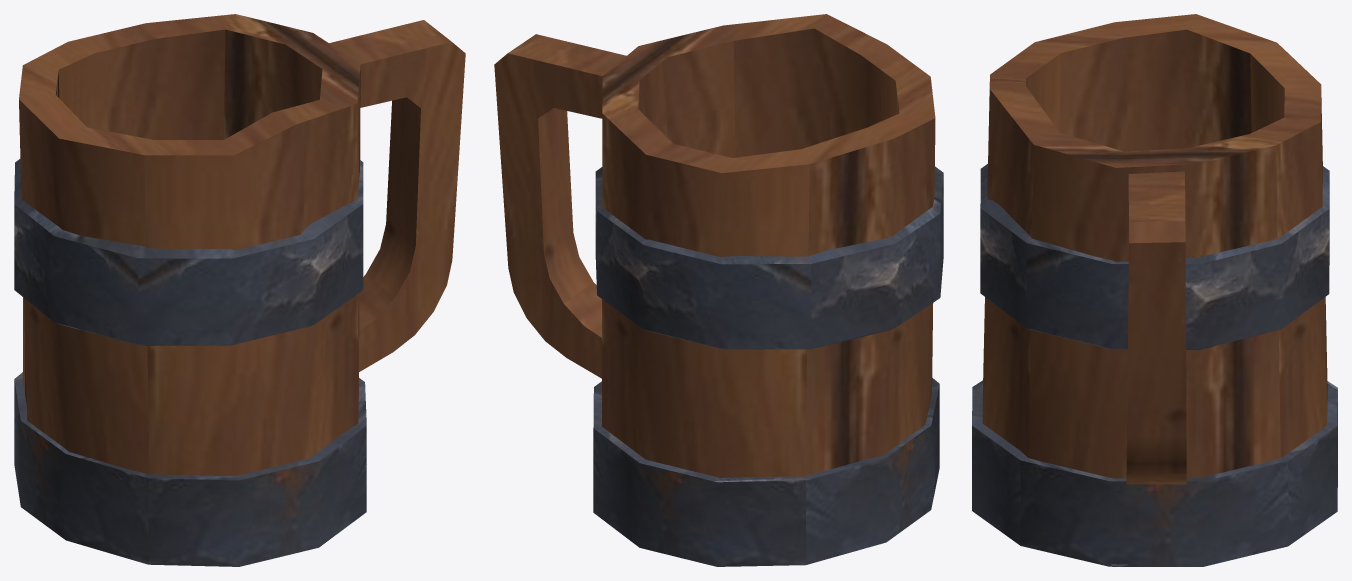
The model's file is tr_mug.glb.
The picture shows the model from 3 angles, left to right: view 1: azimuth 30°, elevation 25°; view 2: azimuth 150°, elevation 25°; view 3: azimuth 270°, elevation 25°; orthographic projection. The views are drawn at different scales.
Parts seen in each view (by area): view 1: model; view 2: model; view 3: model.
Boxes of the visible parts, <box> form: model: <box>14,14,465,566</box>; model: <box>494,14,943,566</box>; model: <box>972,14,1337,566</box>.
Size of the model in its own units: 0.1921 by 0.1839 by 0.1468.
2 materials, 2 textured.
